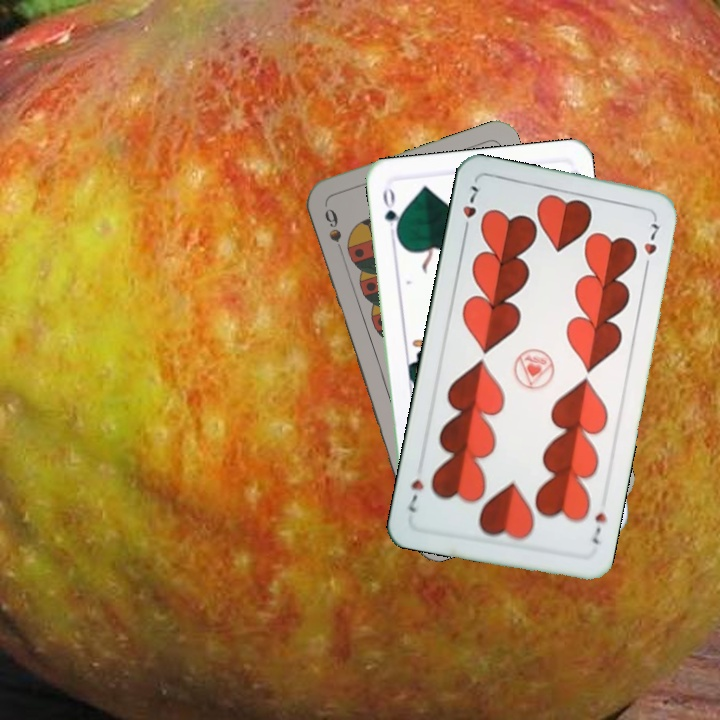GO: (379, 184, 404, 242)
H7: (458, 181, 483, 238), (589, 508, 609, 547)
S9: (320, 204, 344, 245)
